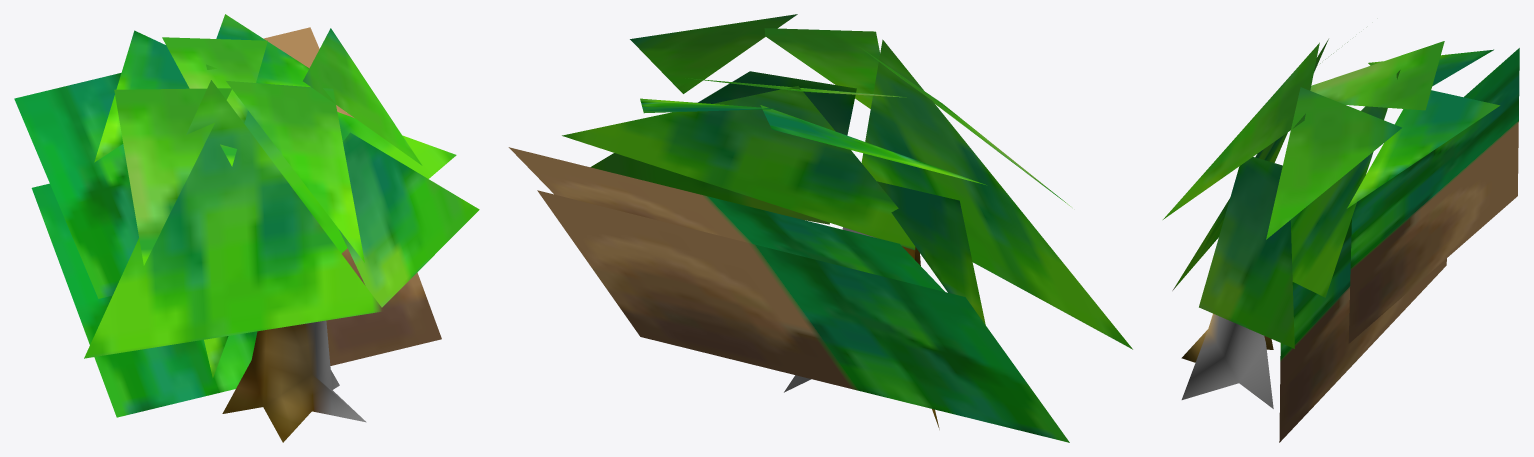
The model's file is fg_bushB_1.dae.
3 renders of one model, left to right at view 1: azimuth 30°, elevation 25°; view 2: azimuth 150°, elevation 25°; view 3: azimuth 270°, elevation 25°, orthographic. The views are drawn at different scales.
Visible parts, largest first — view 1: fg_bushB_1; view 2: fg_bushB_1; view 3: fg_bushB_1.
Boxes of the visible parts, x1,y1,x2,y2 form: fg_bushB_1: (14, 14, 479, 442); fg_bushB_1: (508, 14, 1132, 442); fg_bushB_1: (1163, 39, 1519, 442).
Bounding box in the file's own units: 34.76 × 25.18 × 25.46.
Materials: 1 (1 with a texture image).
